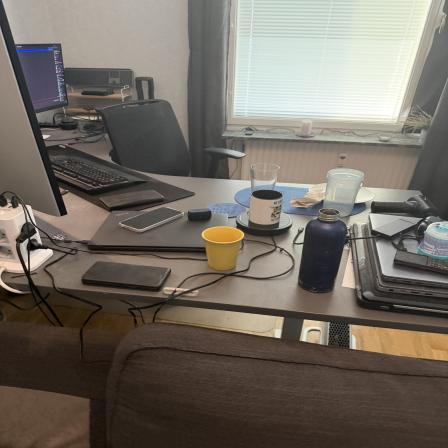blue_bottle: (299, 208, 348, 293)
phone: (84, 258, 174, 293), (118, 206, 185, 232), (100, 190, 168, 210)
yellow_cup: (202, 225, 246, 272)
